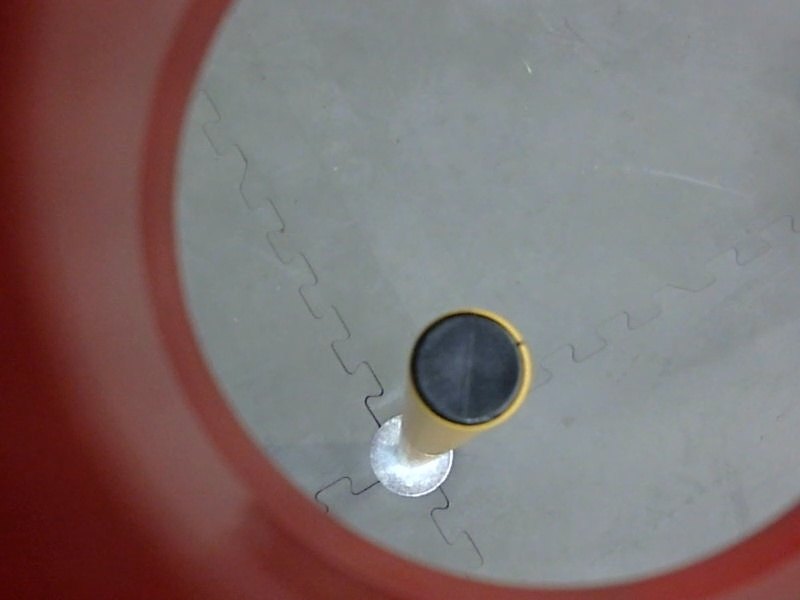tip: (401, 297, 537, 436)
